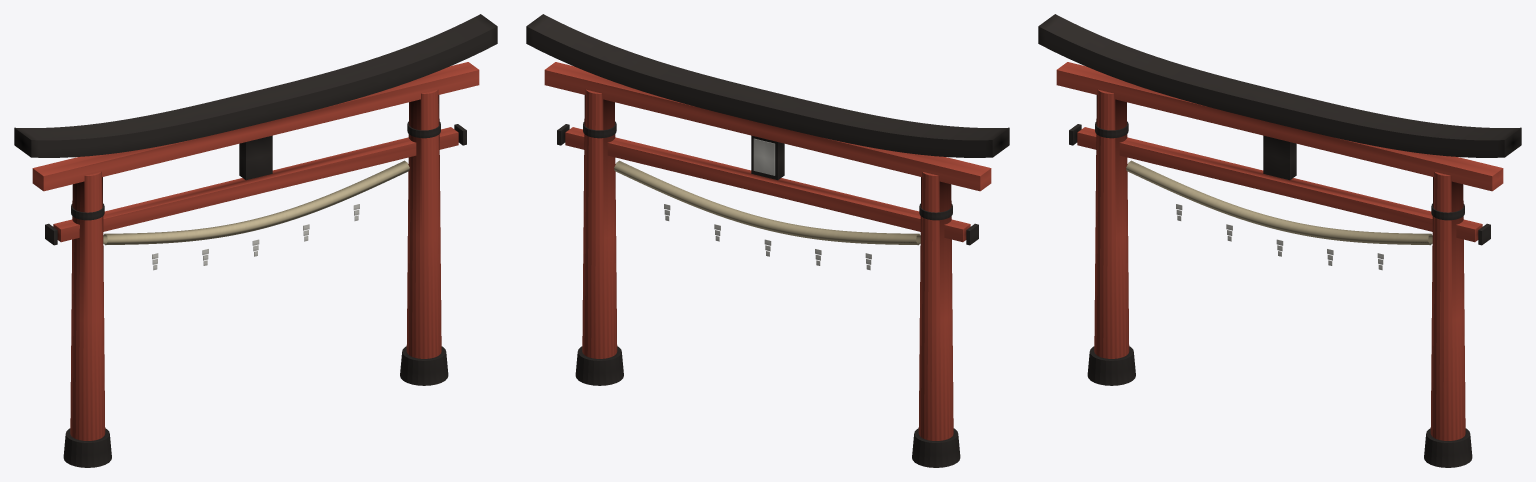
File: torii.glb
The picture shows the model from 3 angles, left to right: view 1: azimuth 30°, elevation 25°; view 2: azimuth 150°, elevation 25°; view 3: azimuth 330°, elevation 25°; orthographic projection.
Visible parts, largest first — view 1: kasagi, Cube.003, Cone, Cone.003, Cube, rope, Cone.004, Cone.001, Cube.004; view 2: kasagi, Cube.003, Cone, Cone.003, Cube, rope, Cone.004, Cone.001, Cube.005, Cube.004; view 3: kasagi, Cube.003, Cone.003, Cone, Cube, rope, Cone.001, Cone.004, Cube.004.
Part boxes in pixels (bbox=[...]): kasagi: bbox=[14, 14, 497, 157]; Cube.003: bbox=[32, 62, 479, 191]; Cone: bbox=[70, 171, 105, 440]; Cone.003: bbox=[406, 89, 441, 358]; Cube: bbox=[53, 127, 458, 242]; rope: bbox=[103, 160, 409, 245]; Cone.004: bbox=[400, 346, 448, 385]; Cone.001: bbox=[63, 428, 111, 467]; Cube.004: bbox=[239, 135, 272, 180]; kasagi: bbox=[526, 14, 1009, 157]; Cube.003: bbox=[544, 62, 991, 191]; Cone: bbox=[918, 171, 953, 440]; Cone.003: bbox=[582, 89, 617, 358]; Cube: bbox=[565, 127, 970, 242]; rope: bbox=[614, 160, 920, 245]; Cone.004: bbox=[575, 346, 623, 385]; Cone.001: bbox=[912, 428, 960, 467]; Cube.005: bbox=[753, 138, 775, 175]; Cube.004: bbox=[751, 135, 784, 180]; kasagi: bbox=[1038, 14, 1521, 157]; Cube.003: bbox=[1056, 62, 1503, 191]; Cone.003: bbox=[1430, 171, 1465, 440]; Cone: bbox=[1094, 89, 1129, 358]; Cube: bbox=[1077, 127, 1482, 242]; rope: bbox=[1126, 160, 1432, 245]; Cone.001: bbox=[1087, 346, 1135, 385]; Cone.004: bbox=[1424, 428, 1472, 467]; Cube.004: bbox=[1263, 135, 1296, 180].
Bounding box in the file's own units: 12.2 × 8.49 × 1.1.
